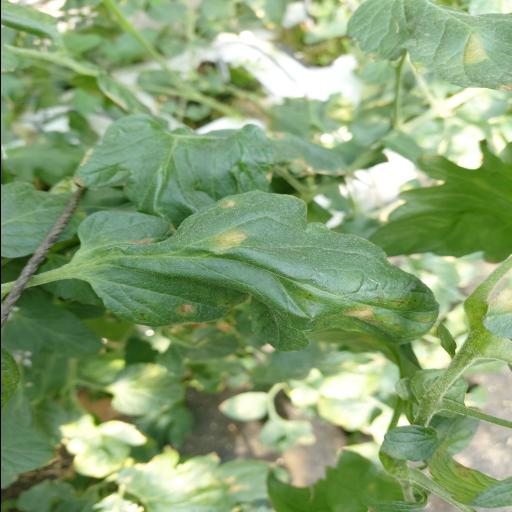Leaf Mold: (76, 189, 438, 352)
